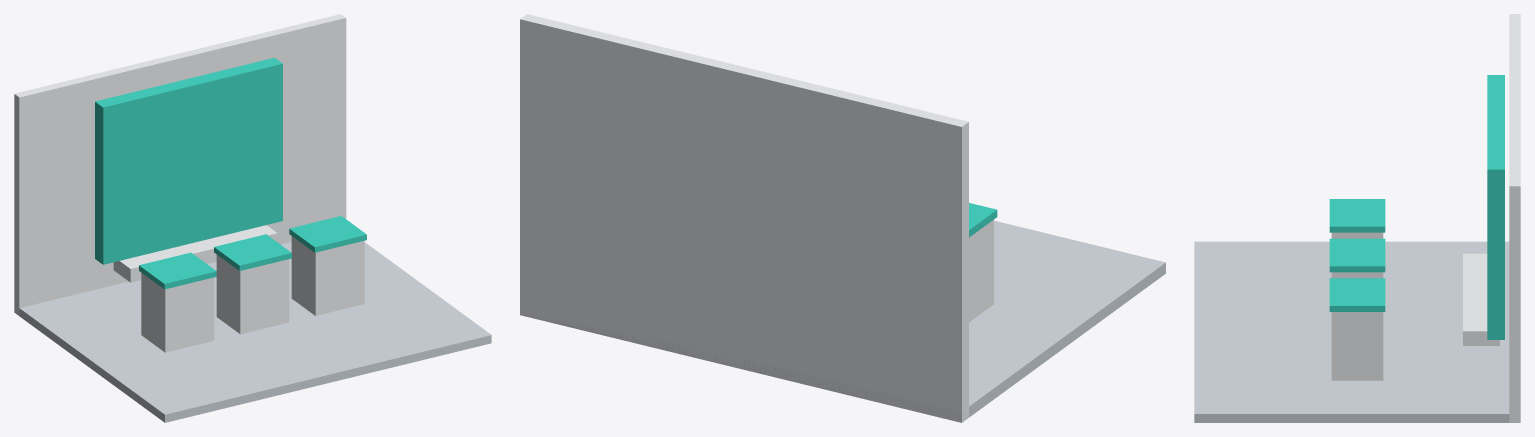
3 views of the same model, side by side, from view 1: azimuth 30°, elevation 25°; view 2: azimuth 150°, elevation 25°; view 3: azimuth 270°, elevation 25° (orthographic). The views are drawn at different scales.
Parts seen in each view (by area): view 1: Exhibition Booth Concept; view 2: Exhibition Booth Concept; view 3: Exhibition Booth Concept.
Part boxes in pixels (x1=…): Exhibition Booth Concept: x1=14, y1=14, x2=491, y2=422; Exhibition Booth Concept: x1=520, y1=14, x2=1165, y2=422; Exhibition Booth Concept: x1=1194, y1=14, x2=1520, y2=422.
Bounding box in the file's own units: 5 × 3.2 × 4.
